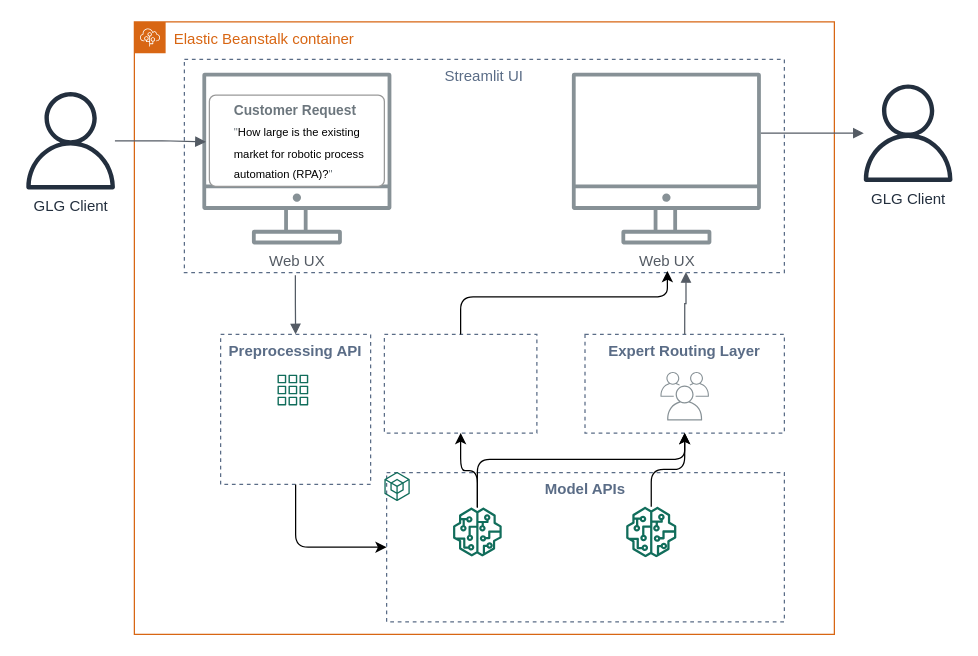
The diagram is 978 pixels wide and 656 high, and some of its shapes have lost their labels. Here are the shapes that lost their labels. From the top down, the centre of each, then its label:
At (x=292, y=389): "Tokenize Lemmatize Stopword Removal".
At (x=460, y=383): "displaCy NER Rendering".
At (x=476, y=531): "NER Model Instance".
At (x=650, y=531): "LDA Model Instance".
